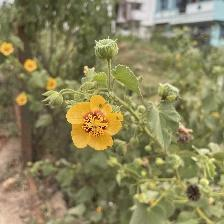indian mallow: (66, 94, 125, 149)
